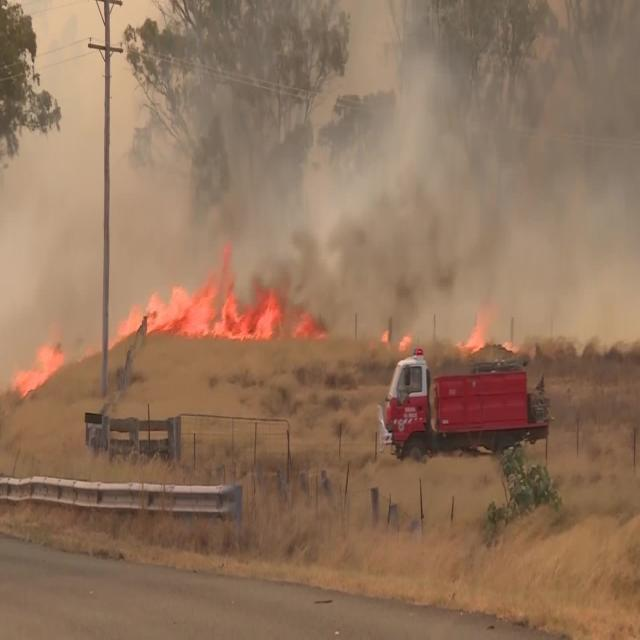Fire: (150, 272, 304, 342)
Smoke: (0, 1, 621, 350)
